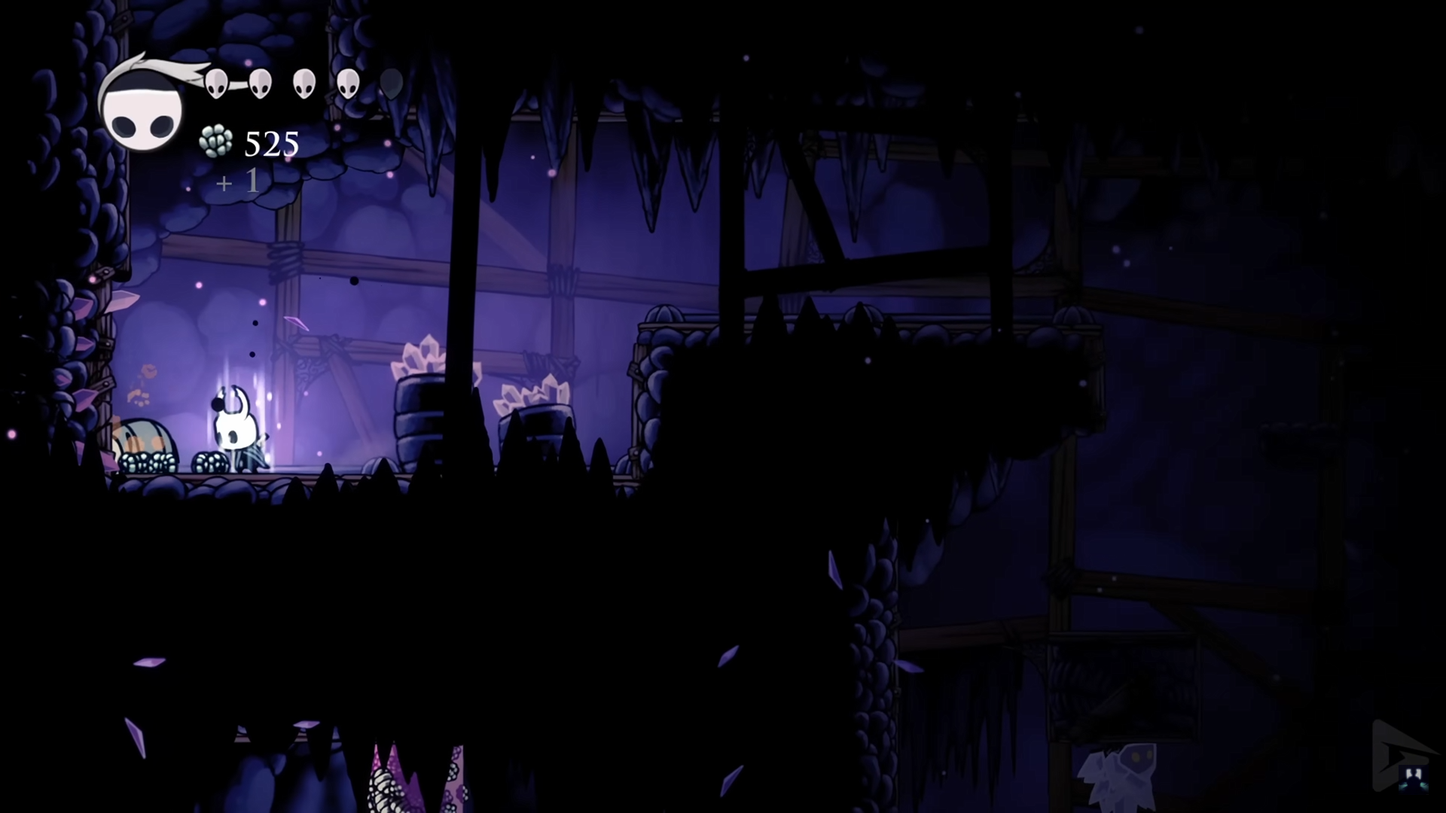HK: (209, 382, 267, 474)
